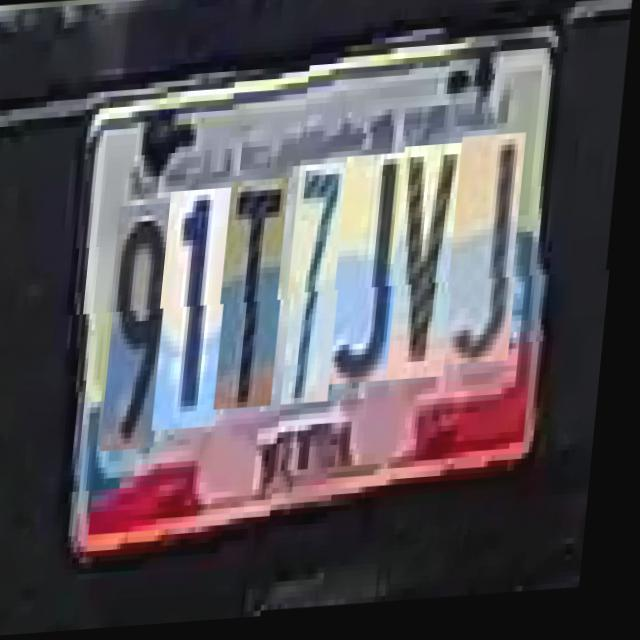1: (160, 191, 242, 434)
7: (288, 174, 354, 416)
9: (110, 206, 182, 454)
J: (337, 164, 418, 396), (452, 146, 533, 378)
T: (222, 182, 296, 414)
V: (394, 156, 468, 392)
